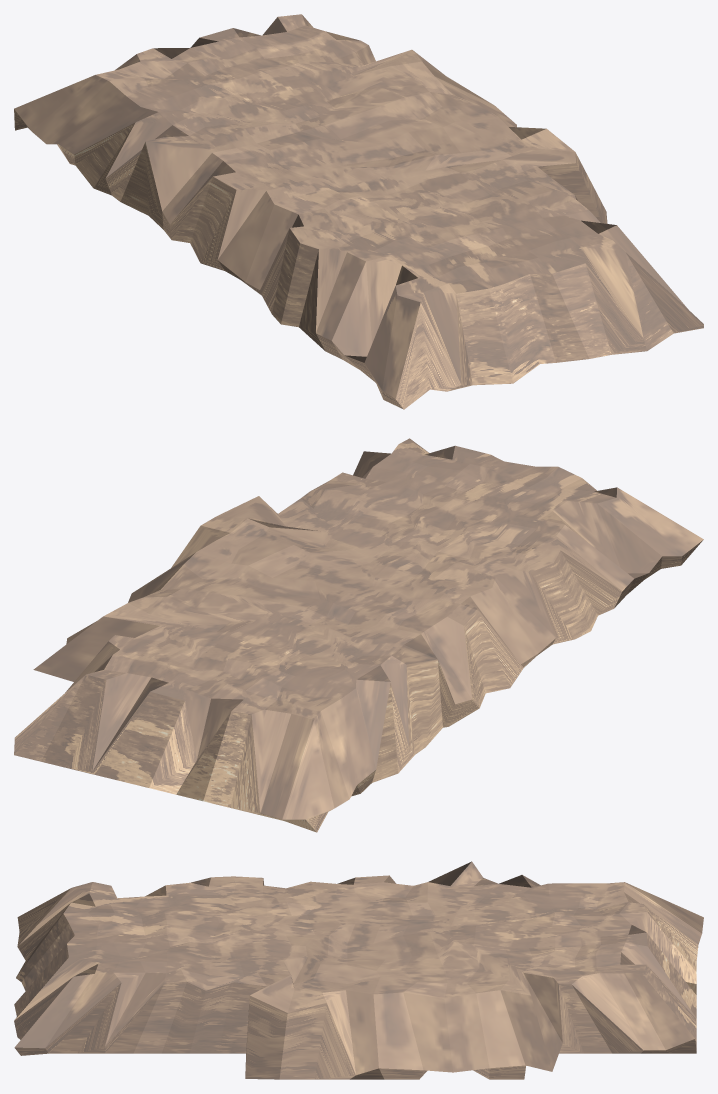
Rendered from blasted.glb.
3 renders of one model, top to bottom at view 1: azimuth 30°, elevation 25°; view 2: azimuth 150°, elevation 25°; view 3: azimuth 270°, elevation 25°, orthographic. The views are drawn at different scales.
Parts seen in each view (by area): view 1: Cube-col; view 2: Cube-col; view 3: Cube-col.
Boxes of the visible parts, bbox=[...] form: Cube-col: bbox=[14, 14, 703, 409]; Cube-col: bbox=[14, 438, 703, 832]; Cube-col: bbox=[14, 861, 703, 1079].
Bounding box in the file's own units: 96.19 × 20.78 × 176.
Materials: 1 (1 with a texture image).
